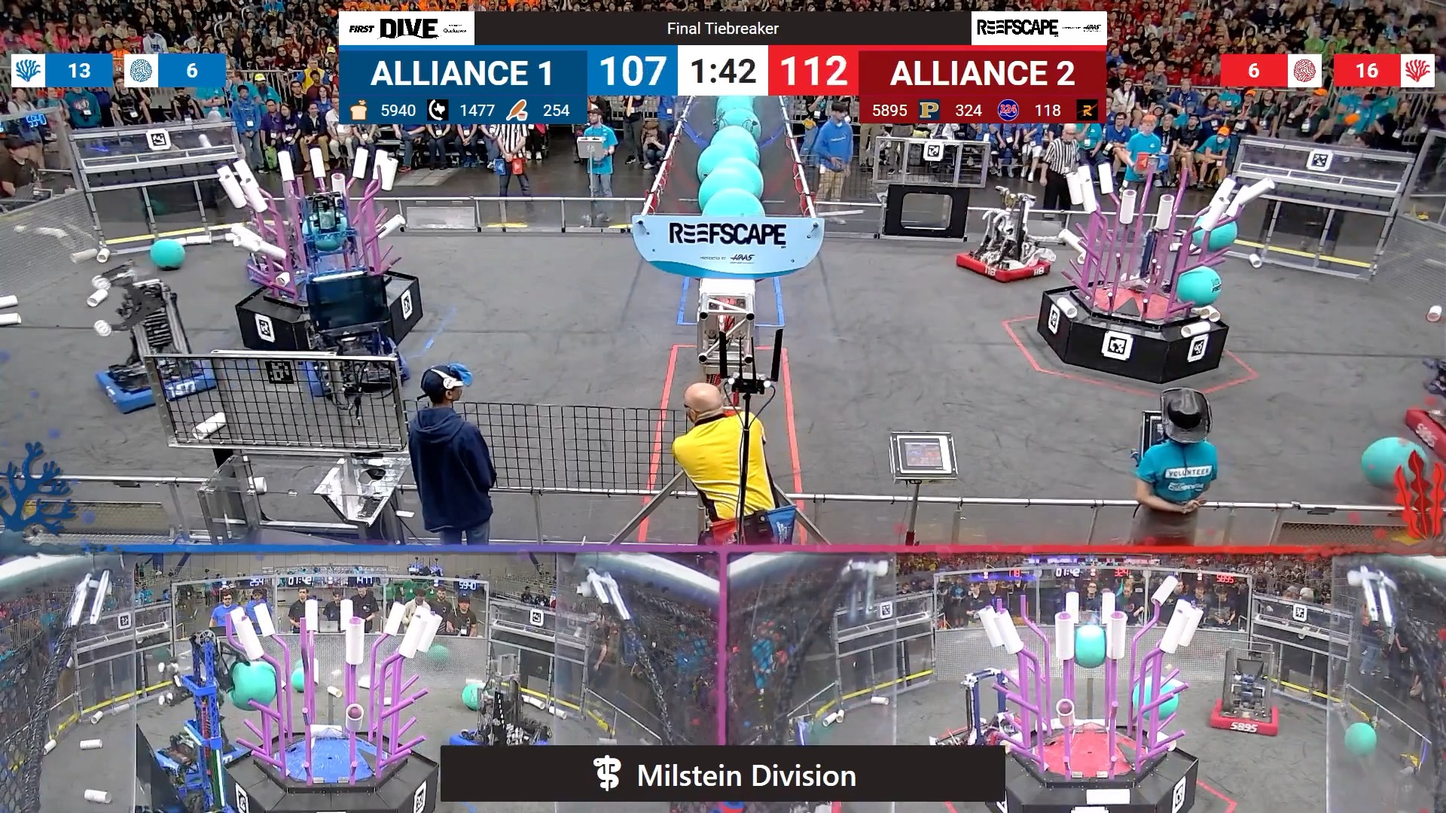bumpers: (91, 356, 227, 414), (296, 342, 413, 399), (952, 248, 1060, 288), (1204, 696, 1289, 741), (445, 721, 557, 748), (1405, 390, 1446, 458)
